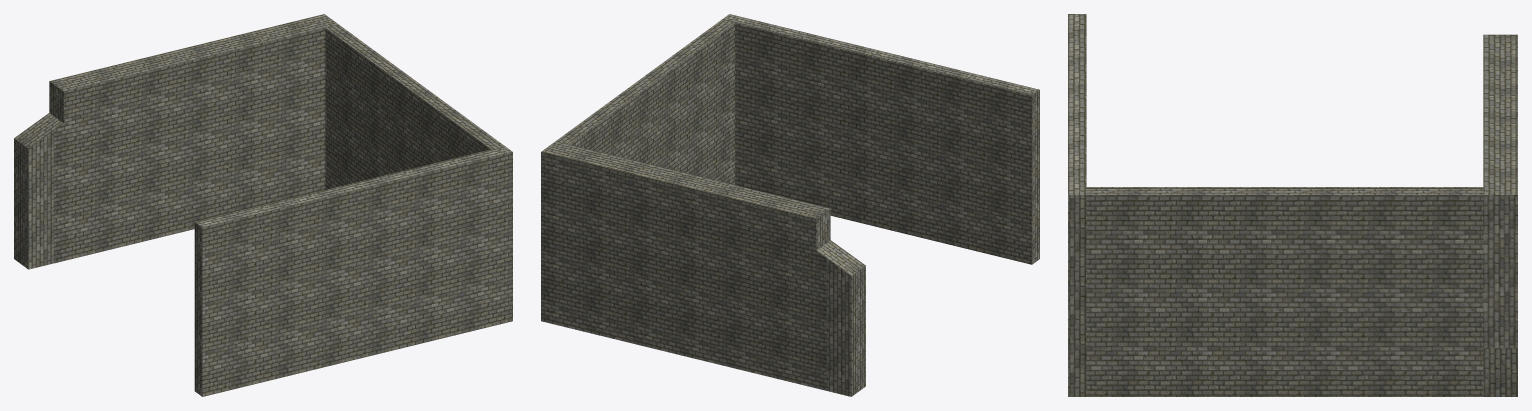
The model's file is LC-wall.fbx.
The picture shows the model from 3 angles, left to right: view 1: azimuth 30°, elevation 25°; view 2: azimuth 150°, elevation 25°; view 3: azimuth 270°, elevation 25°; orthographic projection. The views are drawn at different scales.
Parts seen in each view (by area): view 1: LC-wall; view 2: LC-wall; view 3: LC-wall.
Boxes of the visible parts, box(x1,y1,x2,y2) form: LC-wall: box(14, 14, 512, 396); LC-wall: box(541, 14, 1039, 396); LC-wall: box(1068, 14, 1517, 396).
Bounding box in the file's own units: 7.2 × 7.56 × 3.75.
